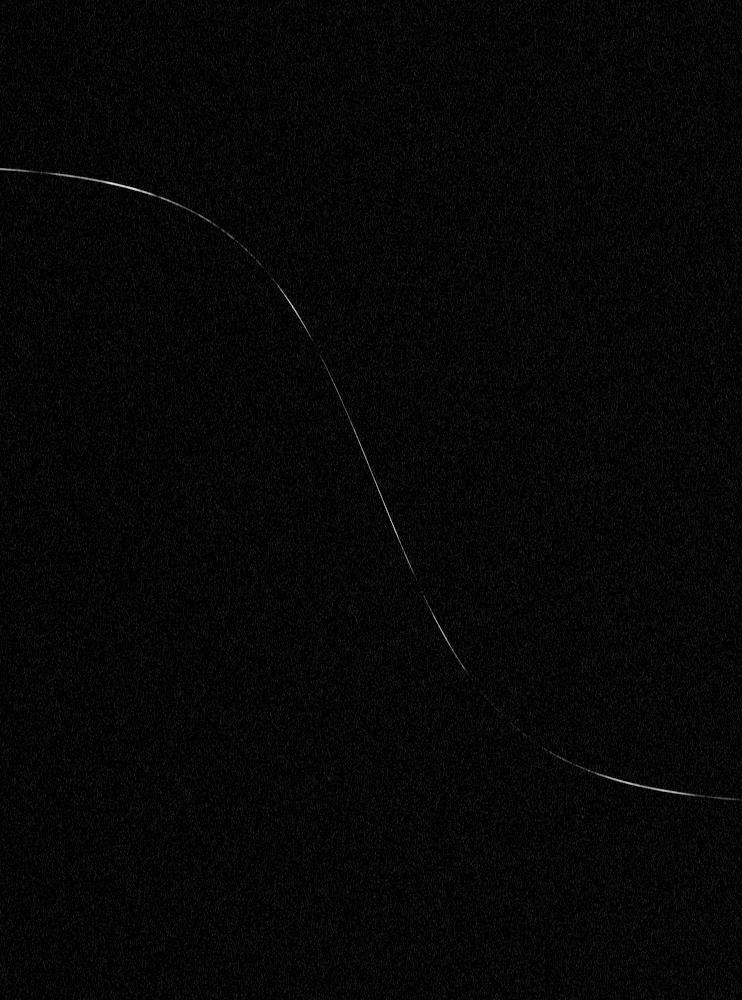signal: (0, 0, 741, 999)
